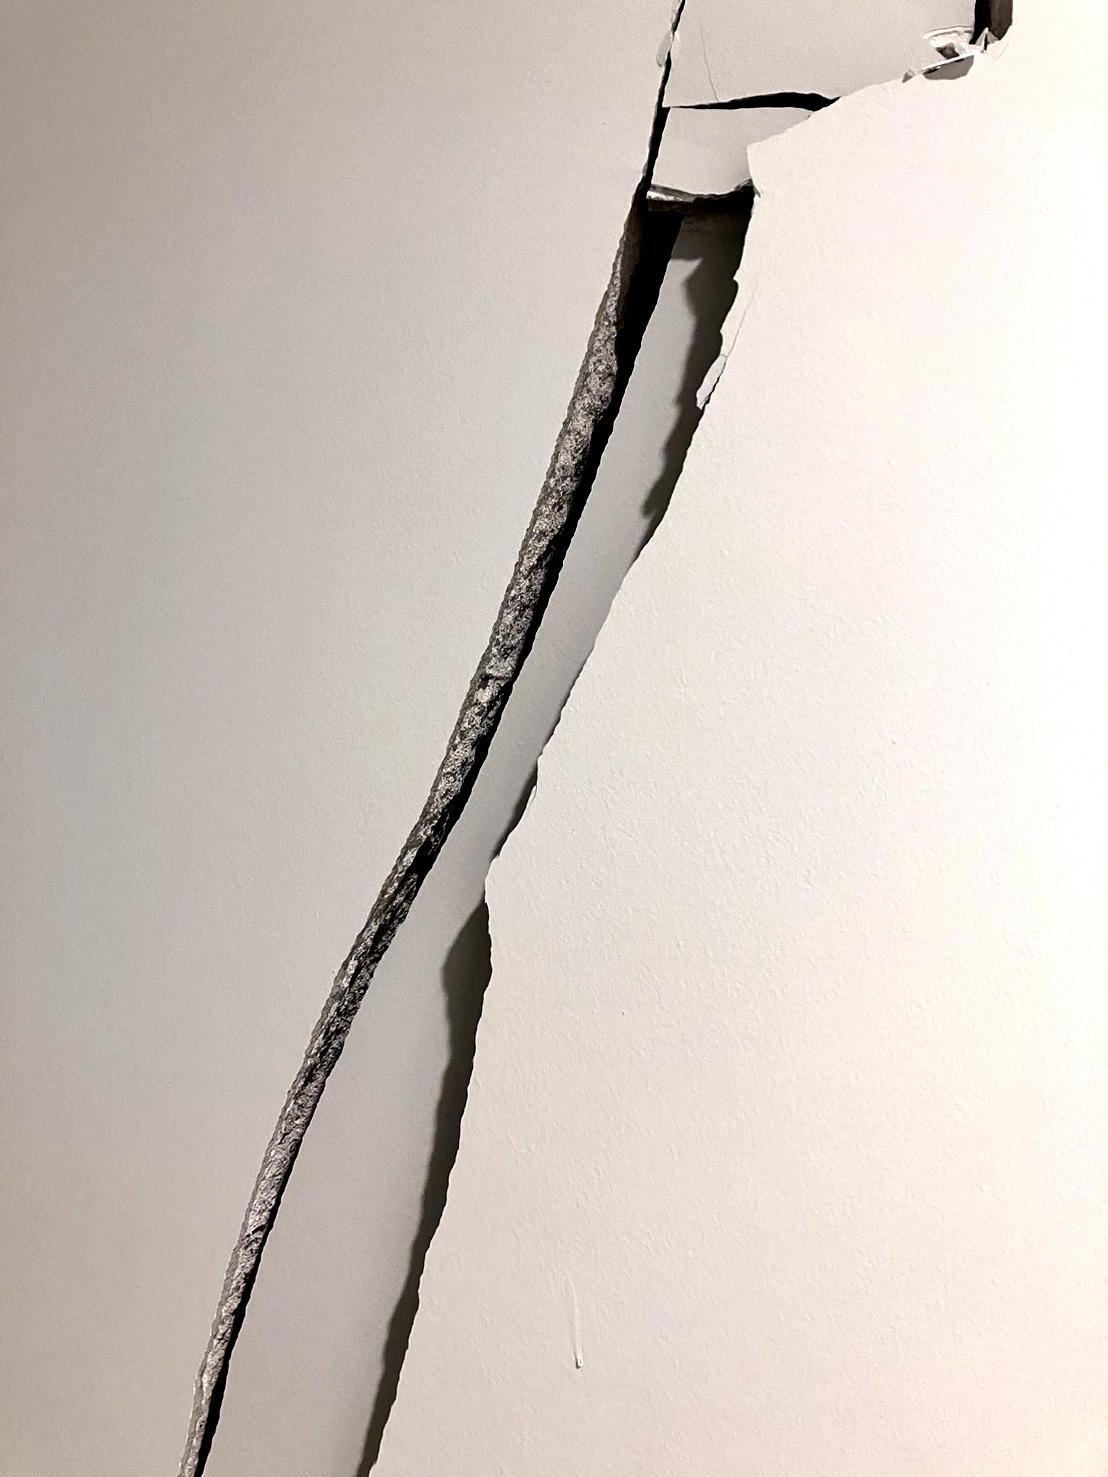High: (149, 3, 1030, 1477)
